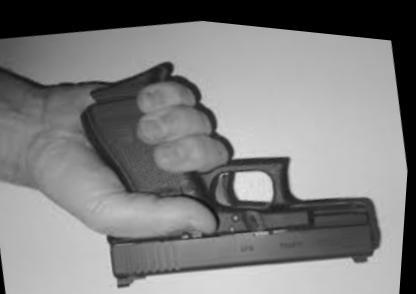pistol: (63, 15, 402, 291)
